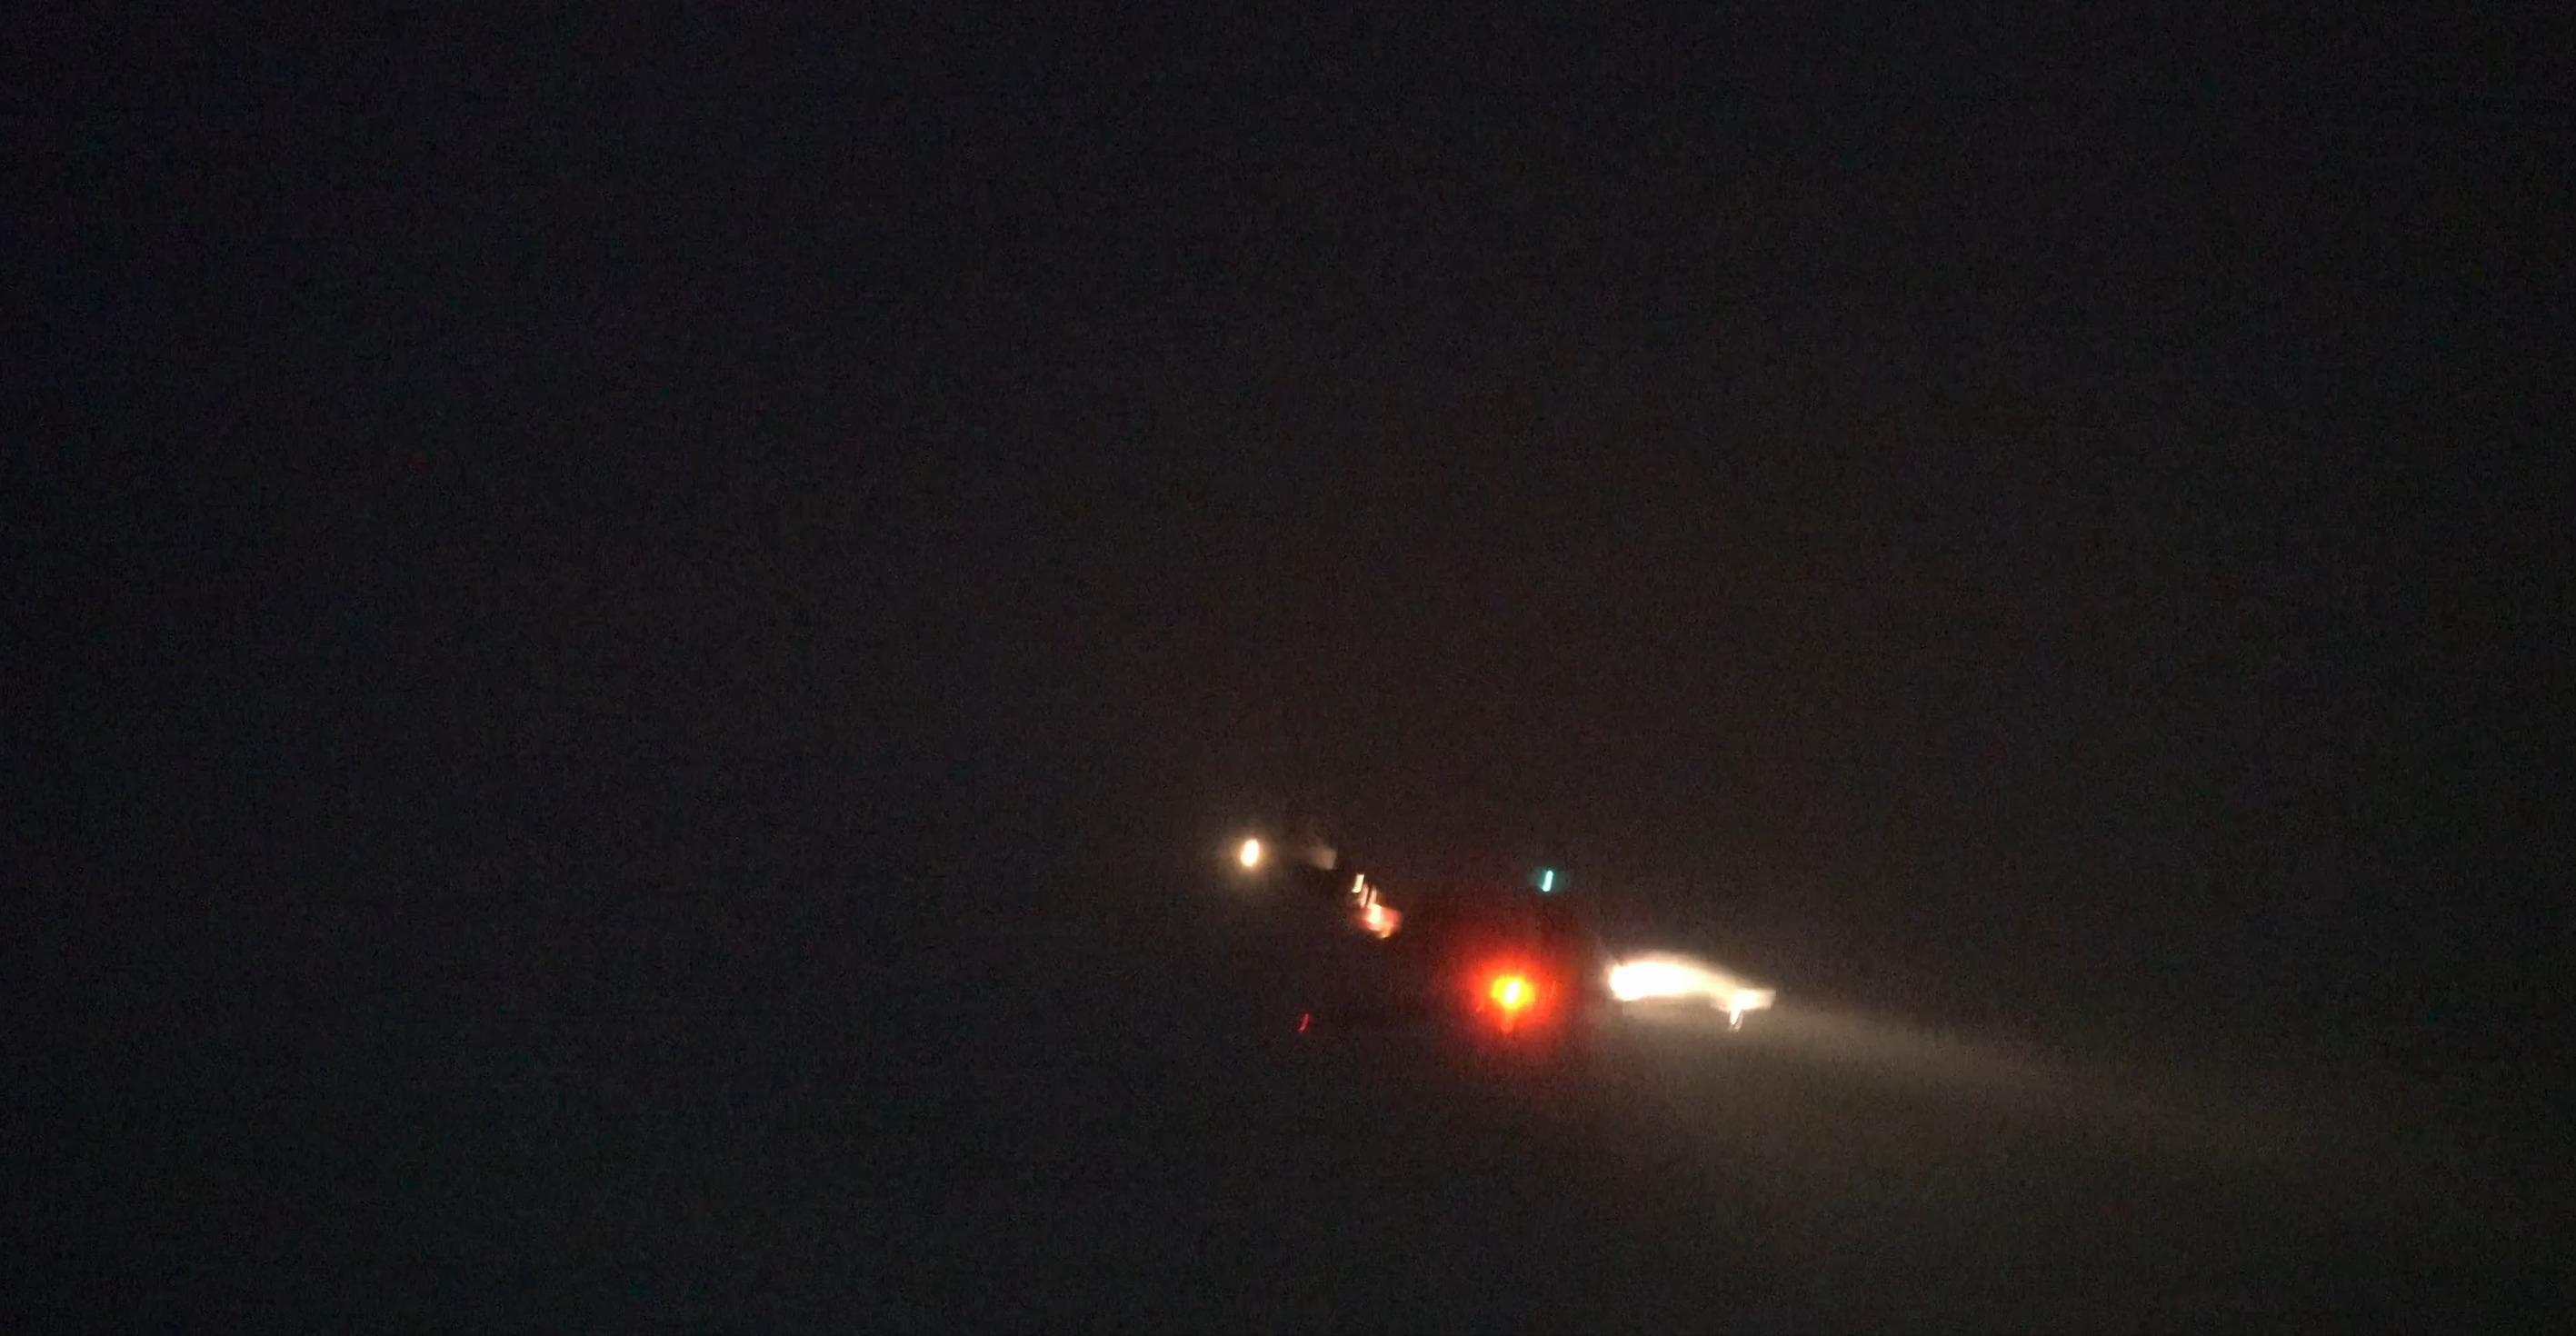Plane: (1269, 808, 1738, 1085)
